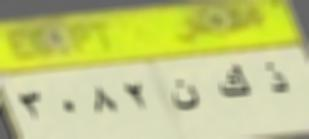0: (62, 96, 77, 122)
2: (125, 80, 152, 116)
3: (15, 89, 46, 124)
8: (88, 85, 121, 119)
kaaf: (214, 62, 254, 107)
noon: (168, 76, 203, 114)
zaal: (260, 60, 293, 97)
